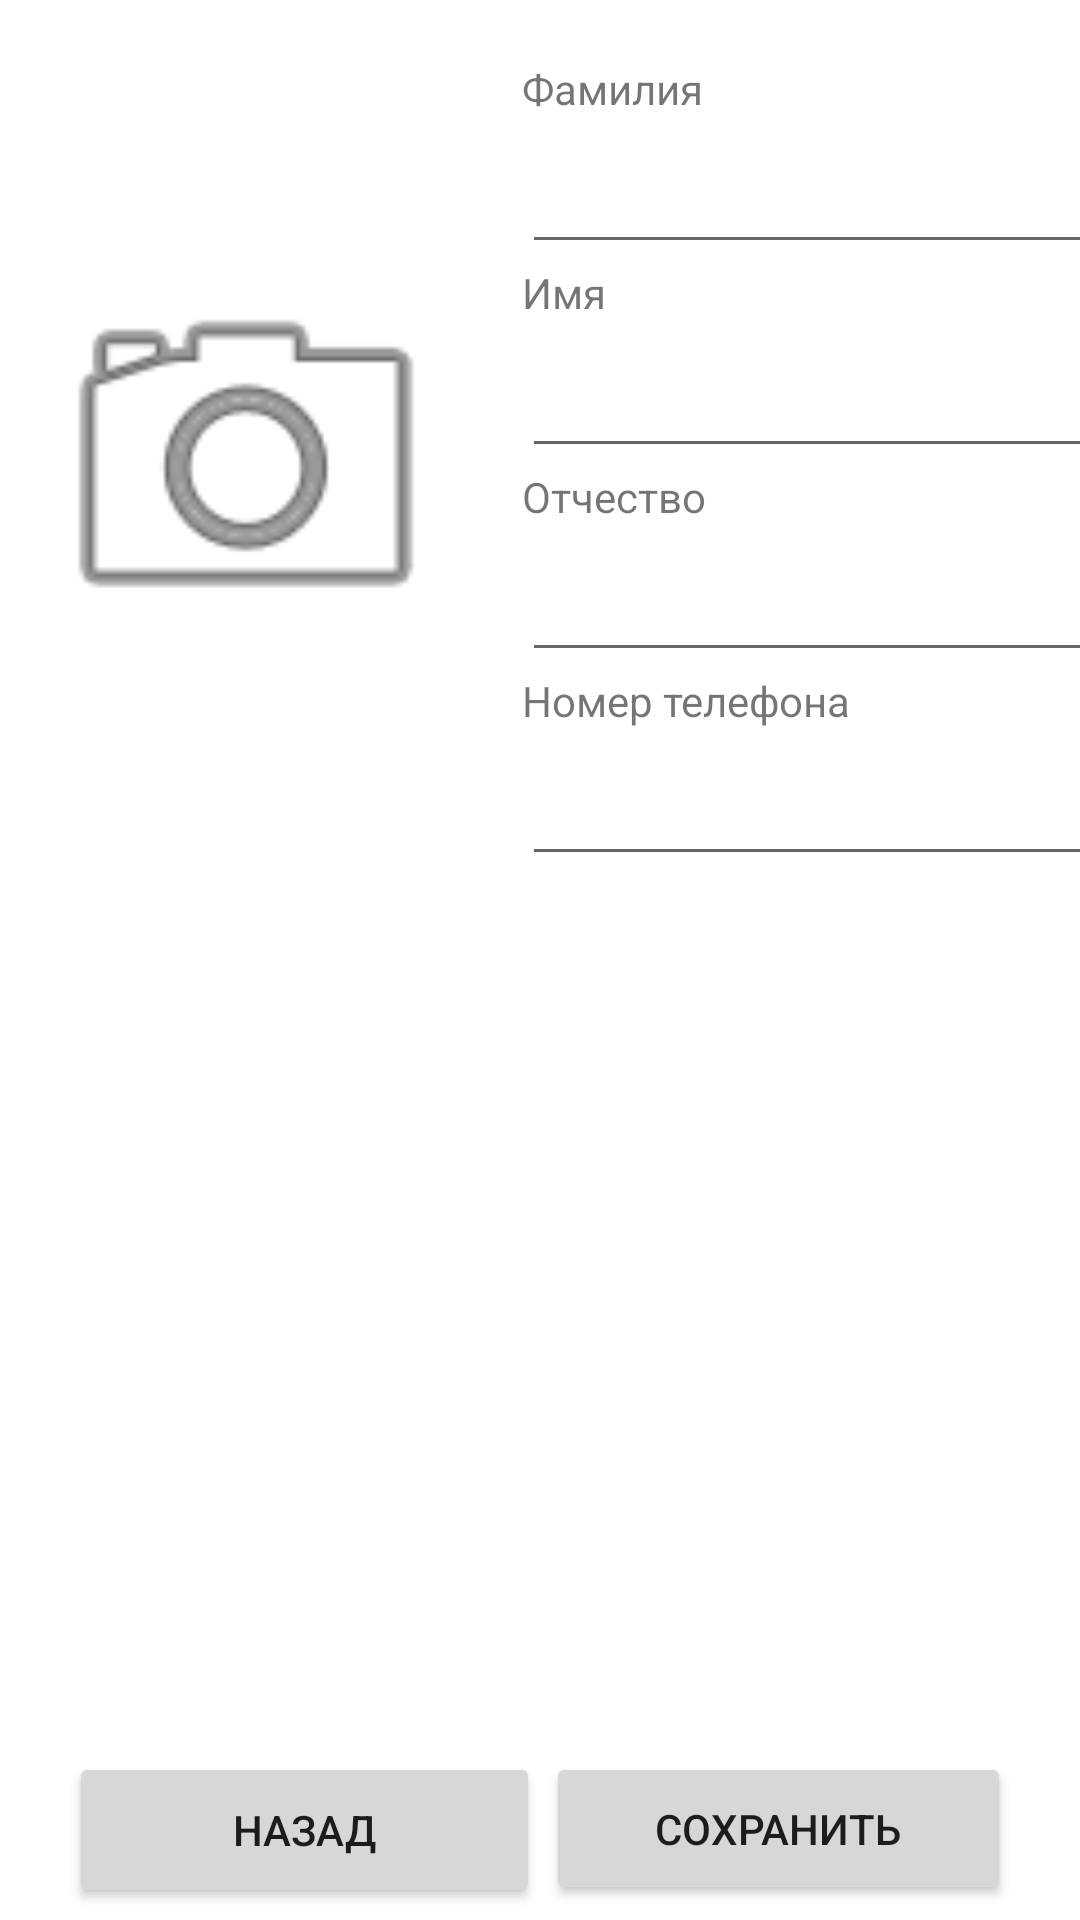

Where icons sit on this 1080px×1920px app screen, as (x1,y1,x2,y2):
camera: (79,320,413,587)
